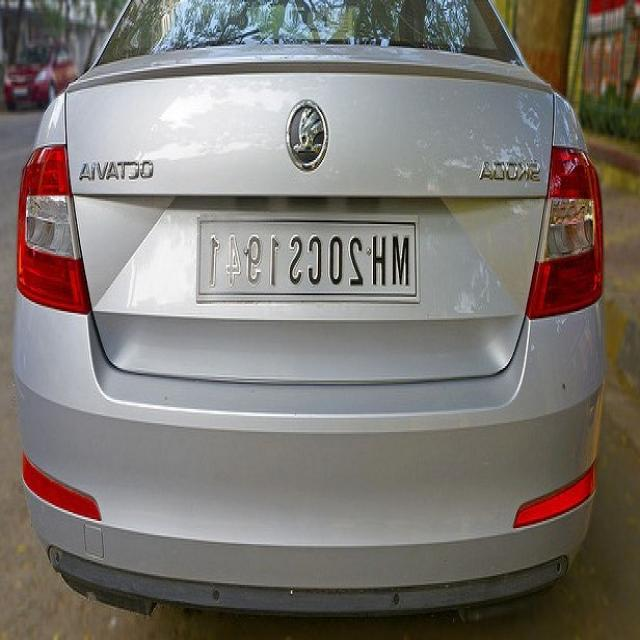number-plate: (197, 214, 419, 299)
